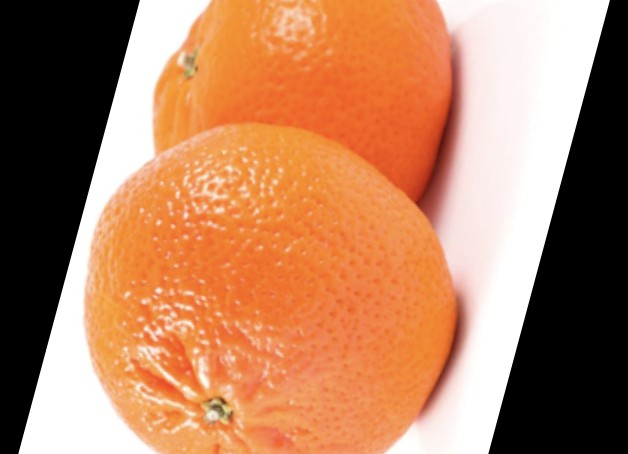fresh_orange: (81, 124, 457, 454), (151, 1, 454, 213)
